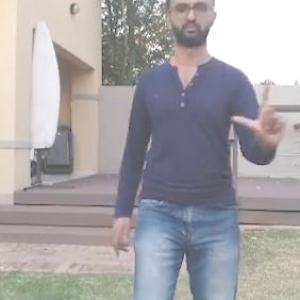land_hand: (229, 77, 294, 150)
